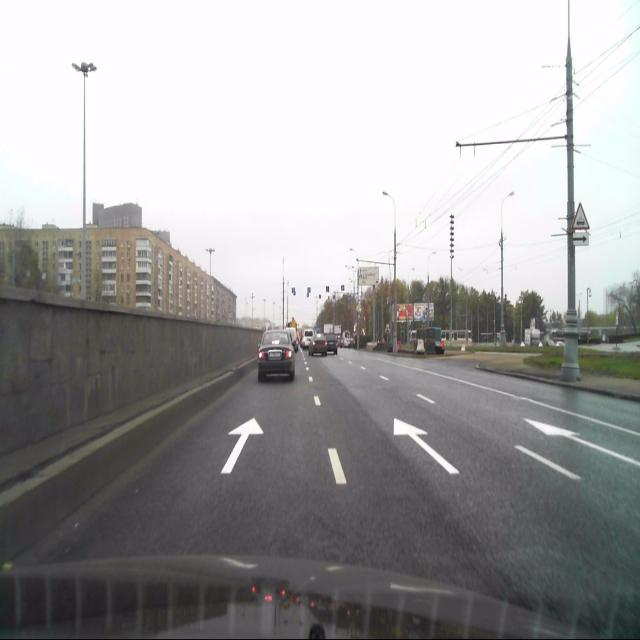road sign: (572, 201, 590, 230)
